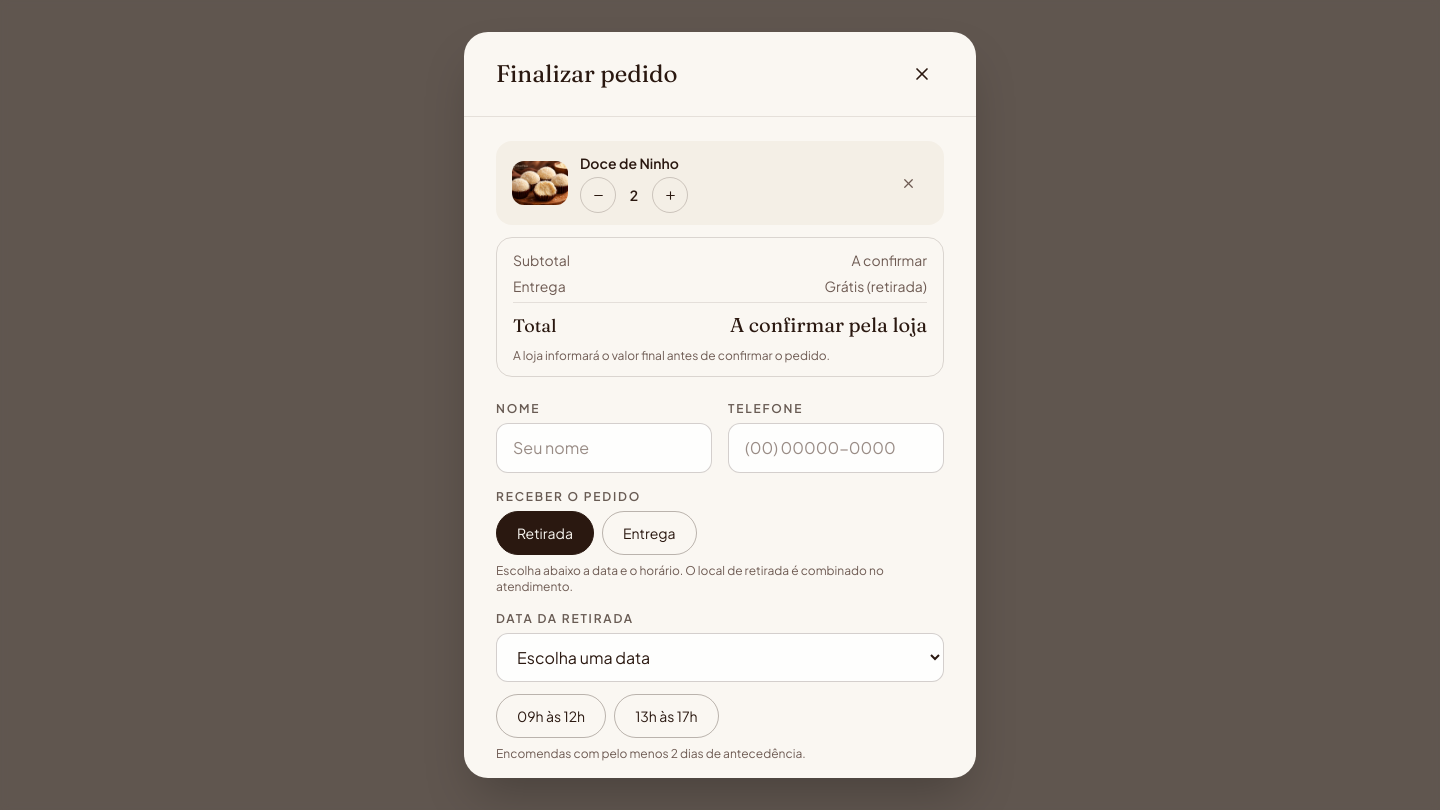
Test: erro de validação do servidor volta ao formulário com mensagem no campo
The image size is (1440, 810).
Expected: the dialog with test id "order-modal" is shown, 464,32 -> 976,778
Type "Maria Silva" into the field with test id "order-input-nome" at (604, 448), box 496,423 -> 712,473
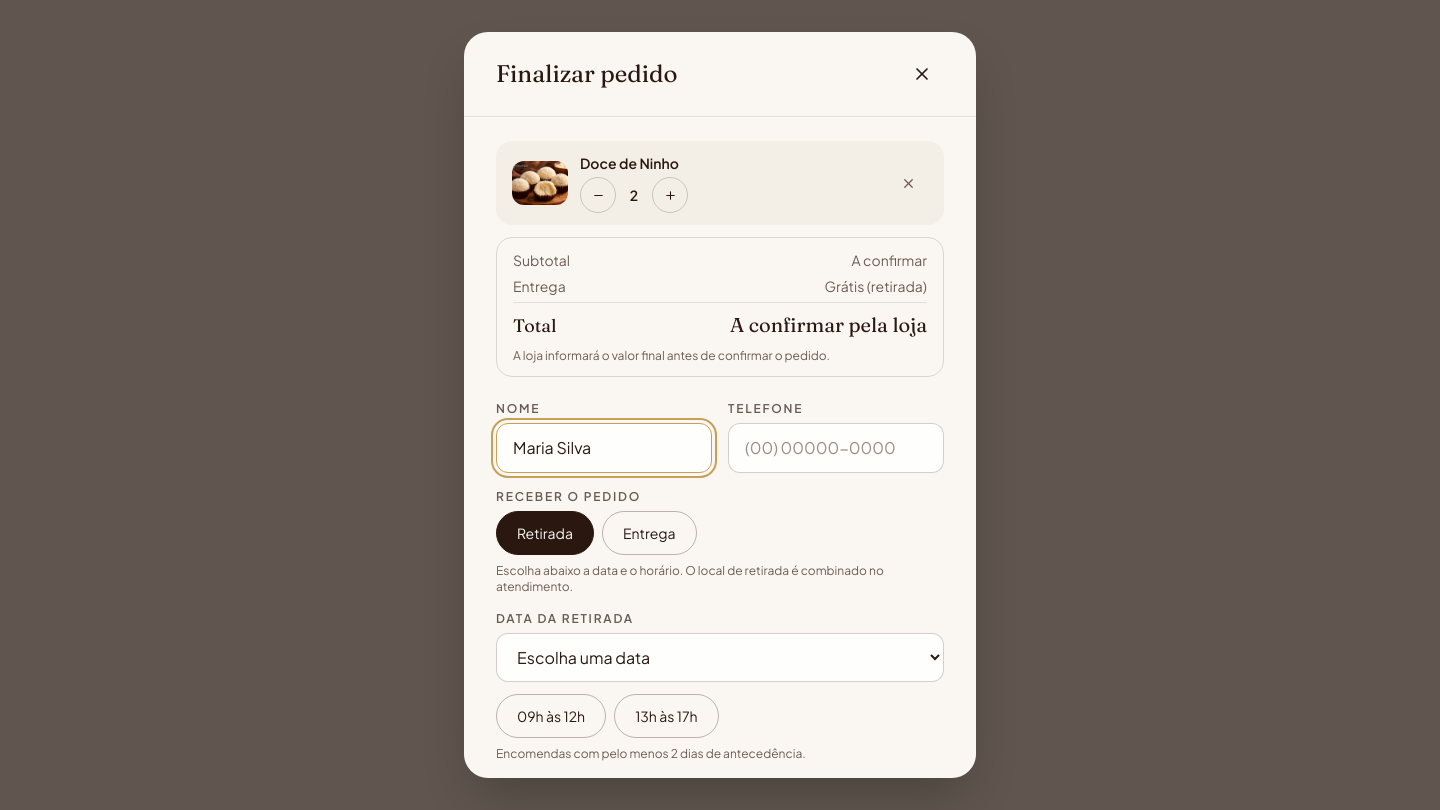
Type "11912345678" into the field with test id "order-input-telefone" at (836, 448), box 728,423 -> 944,473
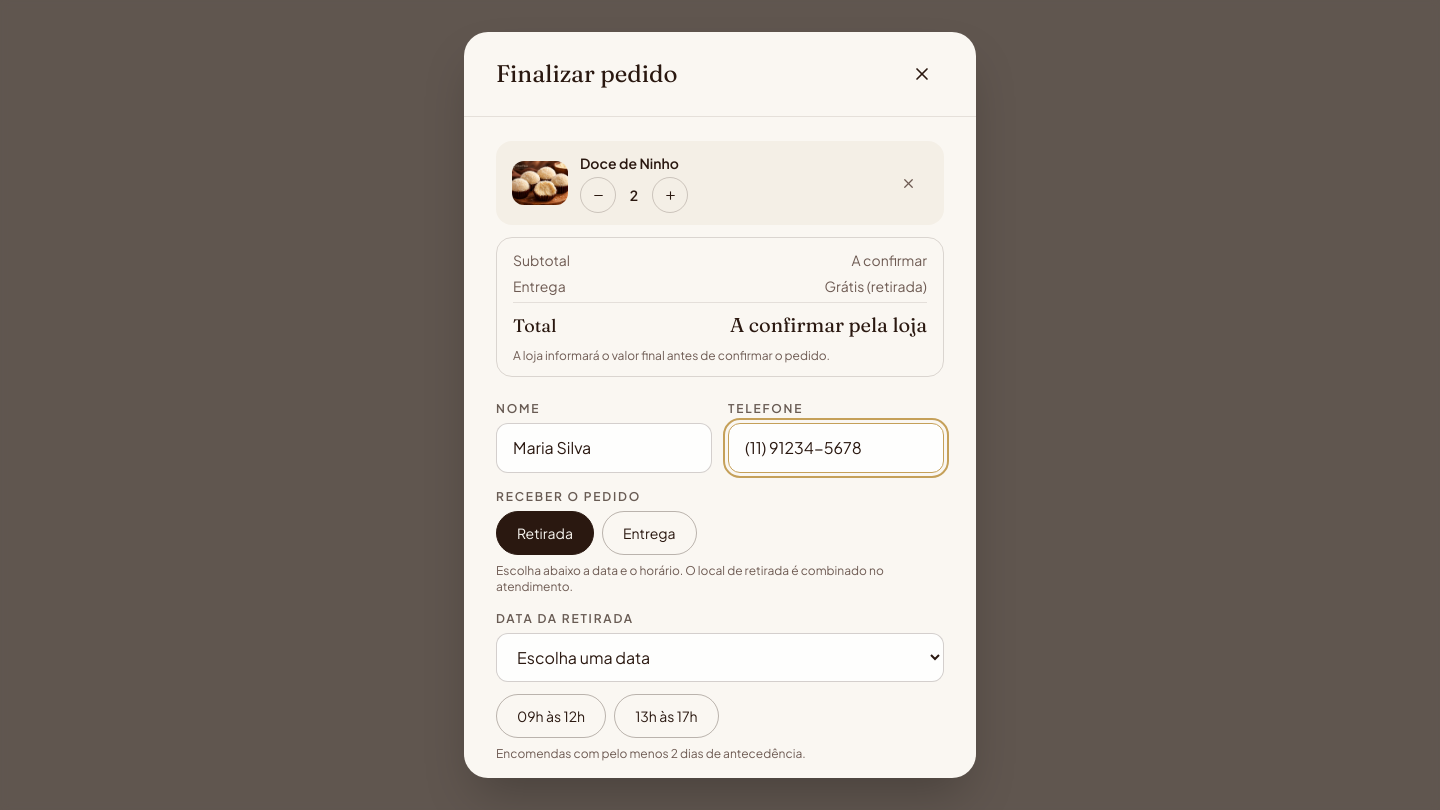
Select "terça-feira, 13/10" in the dropdown with test id "order-input-data" at (720, 658), box 496,633 -> 944,682
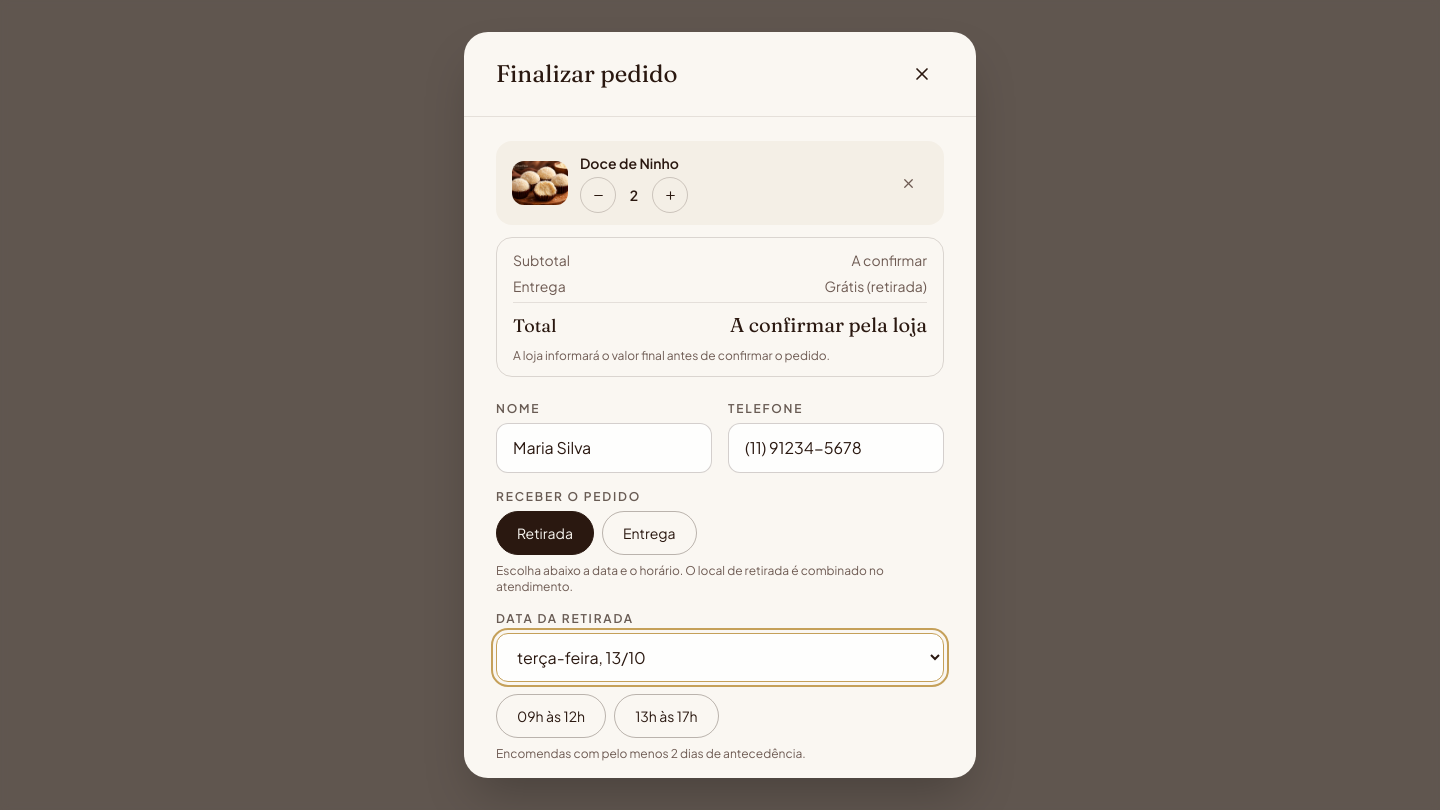
Click the button "09h às 12h" at (551, 716), box 496,694 -> 606,738
(page scrolled)
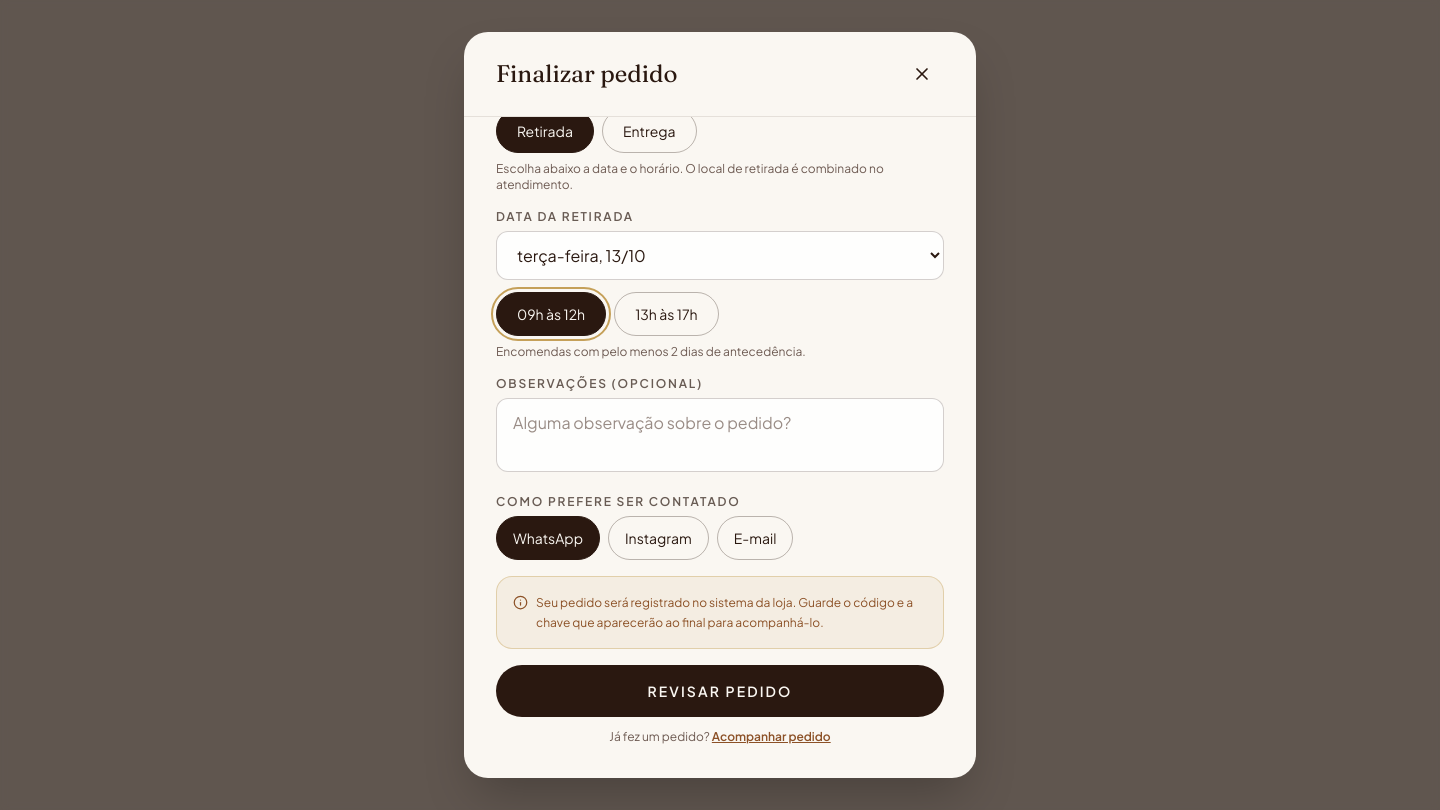
Click the button with test id "order-review-btn" at (720, 691), box 496,665 -> 944,717
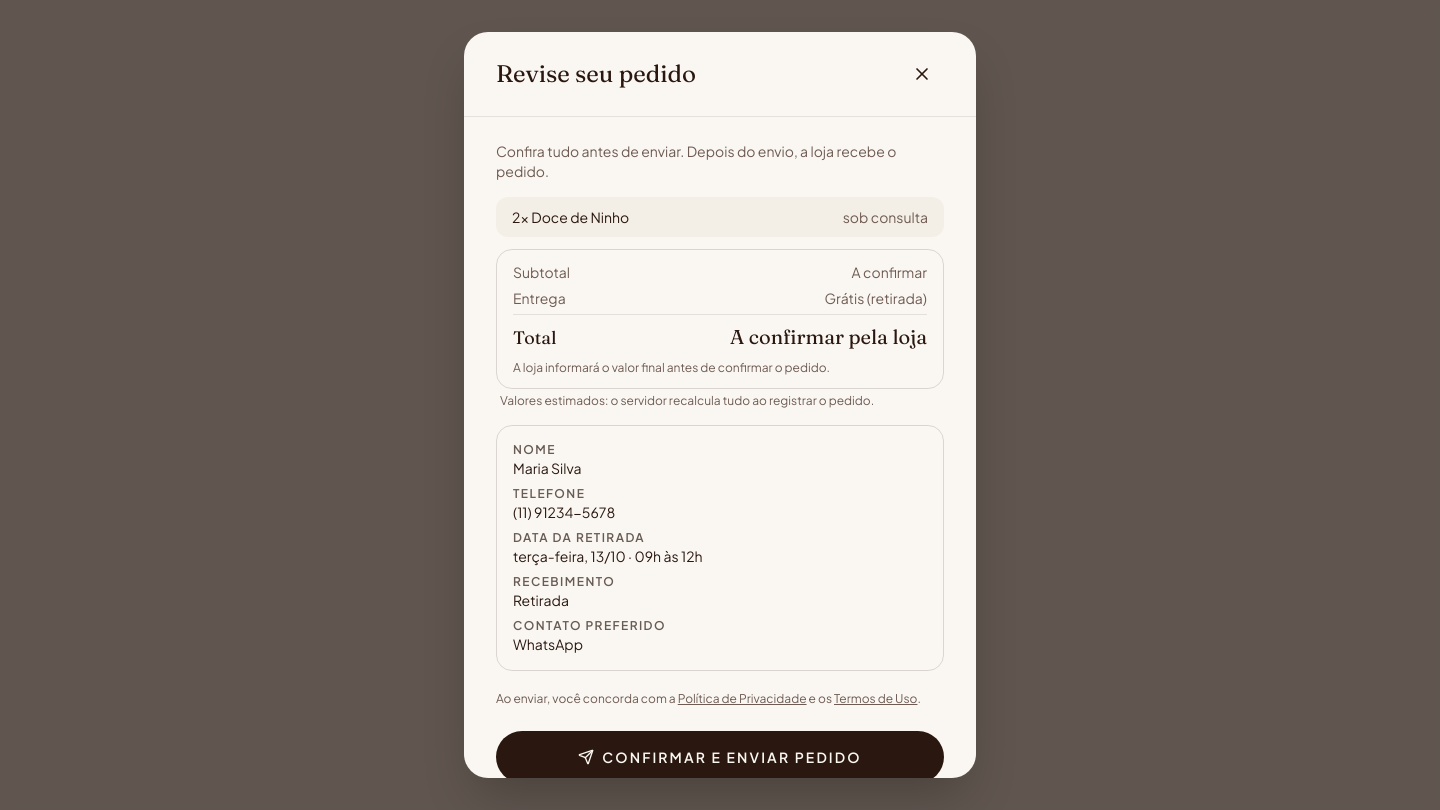
Click the button with test id "order-confirm-btn" at (720, 757), box 496,731 -> 944,783
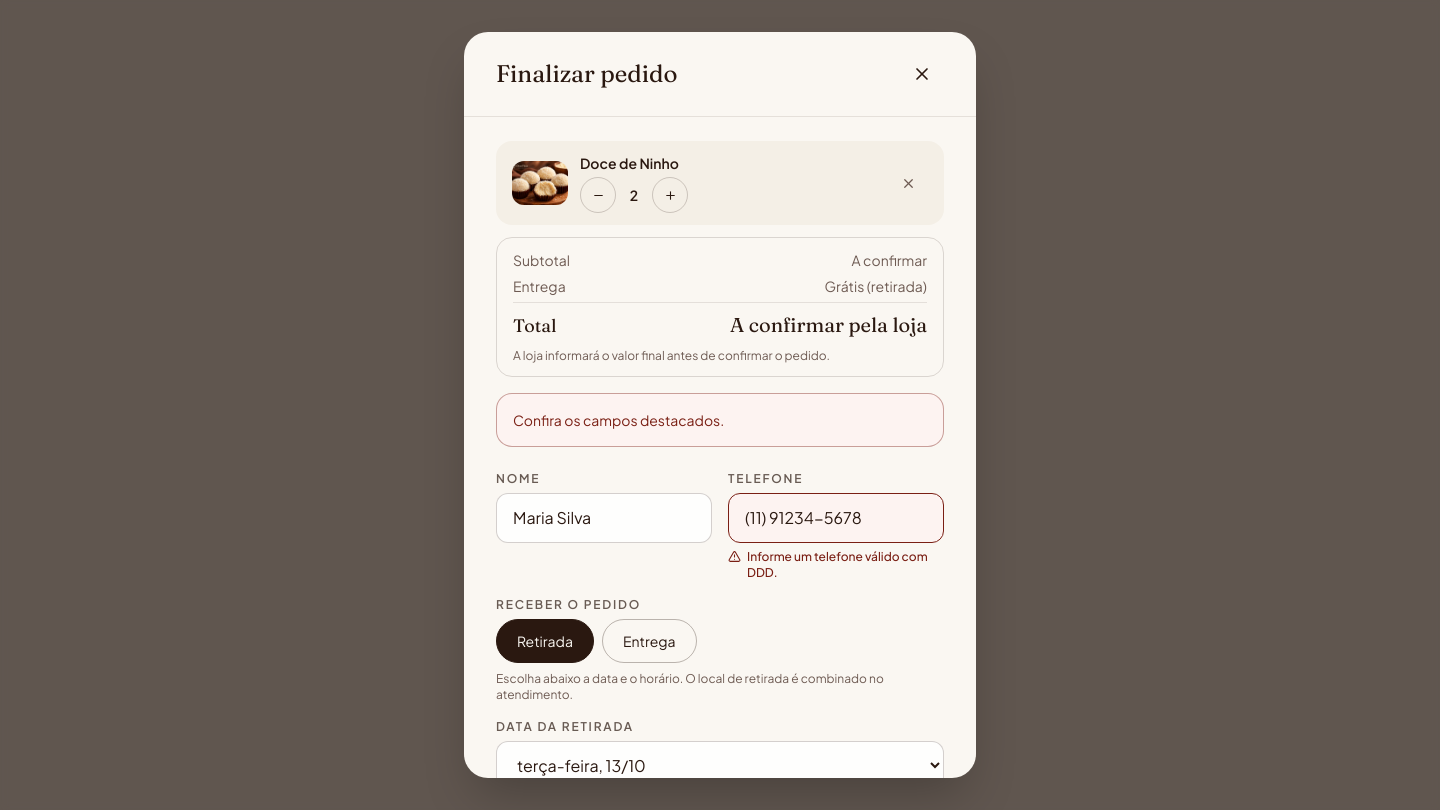
Expected: the text "Informe um telefone válido com DDD." is shown, 728,549 -> 944,581
